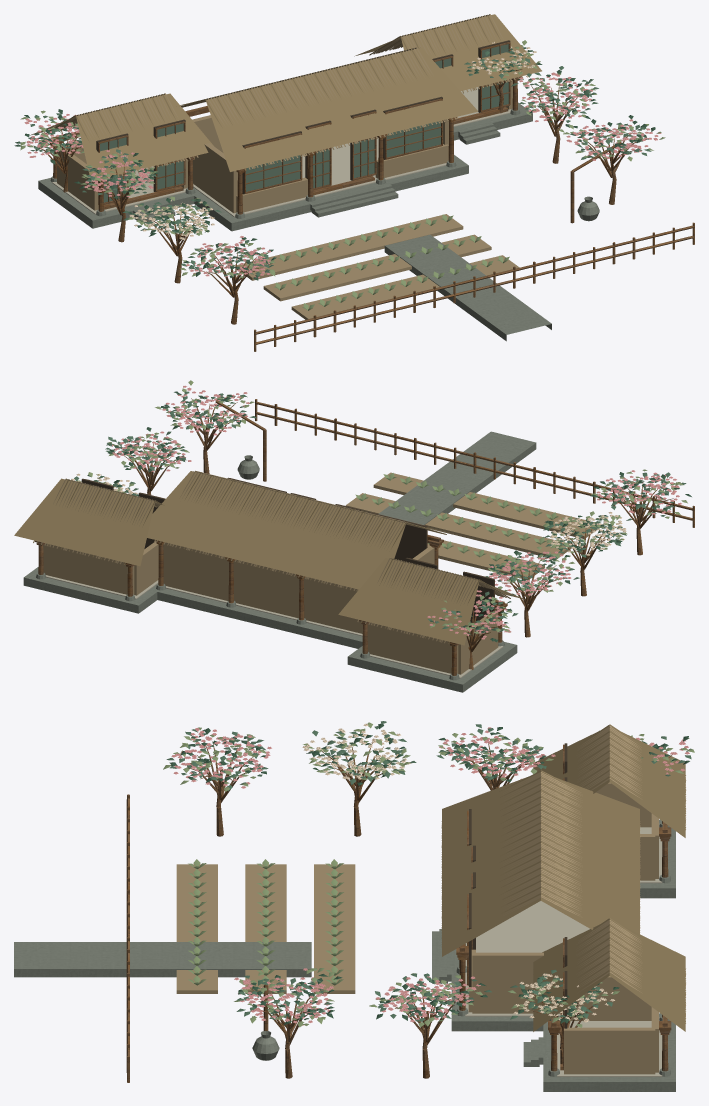
File: public_models_places_daoxiangcun.glb
3 renders of one model, top to bottom at view 1: azimuth 30°, elevation 25°; view 2: azimuth 150°, elevation 25°; view 3: azimuth 270°, elevation 25°, orthographic. The views are drawn at different scales.
Visible parts, largest first — view 1: daoxiangcun_thatch, daoxiangcun_clay, daoxiangcun_wood, daoxiangcun_stone, daoxiangcun_screen, daoxiangcun_lightleaf, daoxiangcun_flower, daoxiangcun_leaf, daoxiangcun_paving, daoxiangcun_leafdark, daoxiangcun_creamflower, daoxiangcun_darkwood; view 2: daoxiangcun_thatch, daoxiangcun_clay, daoxiangcun_stone, daoxiangcun_wood, daoxiangcun_lightleaf, daoxiangcun_flower, daoxiangcun_leaf, daoxiangcun_darkwood, daoxiangcun_leafdark, daoxiangcun_paving, daoxiangcun_creamflower; view 3: daoxiangcun_thatch, daoxiangcun_clay, daoxiangcun_stone, daoxiangcun_lightleaf, daoxiangcun_wood, daoxiangcun_paving, daoxiangcun_flower, daoxiangcun_leaf, daoxiangcun_leafdark, daoxiangcun_creamflower, daoxiangcun_darkwood.
Boxes of the visible parts, left/top/right/bottom form: daoxiangcun_thatch: left=30, top=14, right=541, bottom=180; daoxiangcun_clay: left=51, top=14, right=522, bottom=319; daoxiangcun_wood: left=33, top=42, right=694, bottom=351; daoxiangcun_stone: left=38, top=102, right=599, bottom=341; daoxiangcun_screen: left=100, top=44, right=508, bottom=202; daoxiangcun_lightleaf: left=20, top=40, right=665, bottom=310; daoxiangcun_flower: left=24, top=72, right=661, bottom=278; daoxiangcun_leaf: left=30, top=50, right=651, bottom=276; daoxiangcun_paving: left=52, top=87, right=510, bottom=217; daoxiangcun_leafdark: left=14, top=47, right=655, bottom=280; daoxiangcun_creamflower: left=129, top=41, right=536, bottom=239; daoxiangcun_darkwood: left=96, top=40, right=510, bottom=194; daoxiangcun_thatch: left=14, top=471, right=525, bottom=645; daoxiangcun_clay: left=33, top=470, right=599, bottom=674; daoxiangcun_stone: left=23, top=431, right=536, bottom=692; daoxiangcun_wood: left=35, top=398, right=694, bottom=675; daoxiangcun_lightleaf: left=77, top=380, right=687, bottom=633; daoxiangcun_flower: left=110, top=385, right=681, bottom=639; daoxiangcun_leaf: left=74, top=391, right=686, bottom=634; daoxiangcun_darkwood: left=81, top=477, right=494, bottom=627; daoxiangcun_leafdark: left=87, top=391, right=691, bottom=642; daoxiangcun_paving: left=45, top=575, right=503, bottom=678; daoxiangcun_creamflower: left=71, top=473, right=626, bottom=557; daoxiangcun_thatch: left=441, top=724, right=685, bottom=1031; daoxiangcun_clay: left=176, top=726, right=686, bottom=1074; daoxiangcun_stone: left=14, top=819, right=675, bottom=1091; daoxiangcun_lightleaf: left=163, top=722, right=694, bottom=1027; daoxiangcun_wood: left=126, top=739, right=671, bottom=1082; daoxiangcun_paving: left=465, top=823, right=662, bottom=1076; daoxiangcun_flower: left=171, top=727, right=689, bottom=1025; daoxiangcun_leaf: left=166, top=721, right=691, bottom=1021; daoxiangcun_leafdark: left=169, top=723, right=689, bottom=1025; daoxiangcun_creamflower: left=302, top=723, right=614, bottom=1022; daoxiangcun_darkwood: left=469, top=743, right=567, bottom=1028.
Bounding box in the file's own units: 30.65 × 6.21 × 29.73.
Materials: 12 (2 with a texture image).
